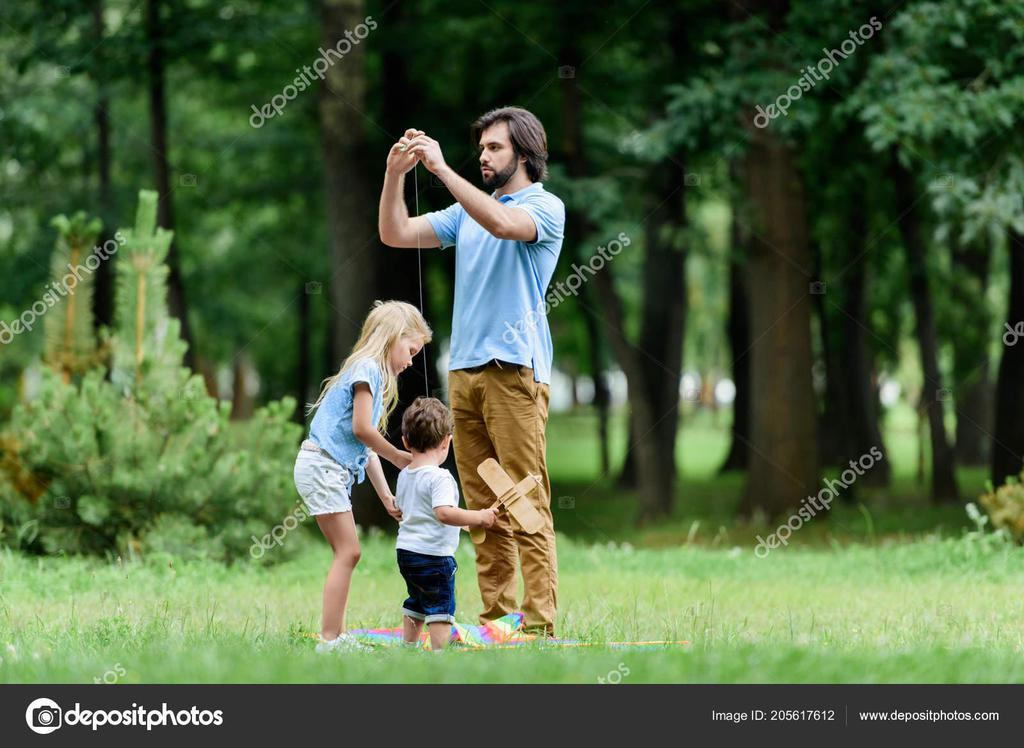child: (293, 294, 435, 661), (382, 398, 478, 642)
